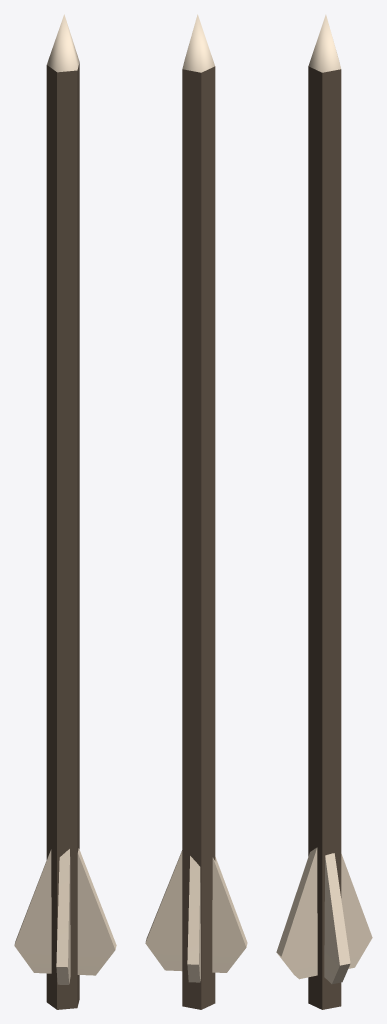
Rendered from _CROSSBOW_ARROW.fbx.
The picture shows the model from 3 angles, left to right: view 1: azimuth 30°, elevation 25°; view 2: azimuth 210°, elevation 25°; view 3: azimuth 330°, elevation 25°; orthographic projection.
Parts seen in each view (by area): view 1: CROSSBOW_ARROW; view 2: CROSSBOW_ARROW; view 3: CROSSBOW_ARROW.
Boxes of the visible parts, x1,y1,x2,y2 form: CROSSBOW_ARROW: (14, 14, 116, 1009); CROSSBOW_ARROW: (145, 14, 247, 1009); CROSSBOW_ARROW: (276, 14, 372, 1009).
Size of the model in its own units: 3.4 by 41.56 by 3.47.
